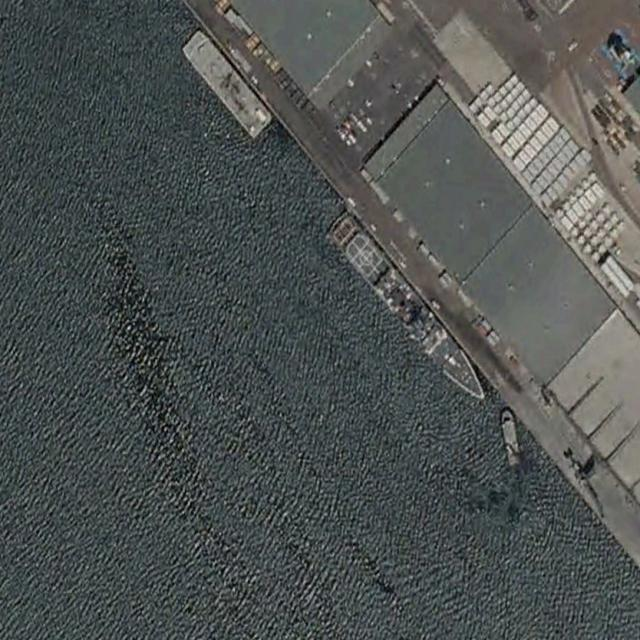Other Ship: (324, 208, 494, 410), (500, 409, 523, 466)
